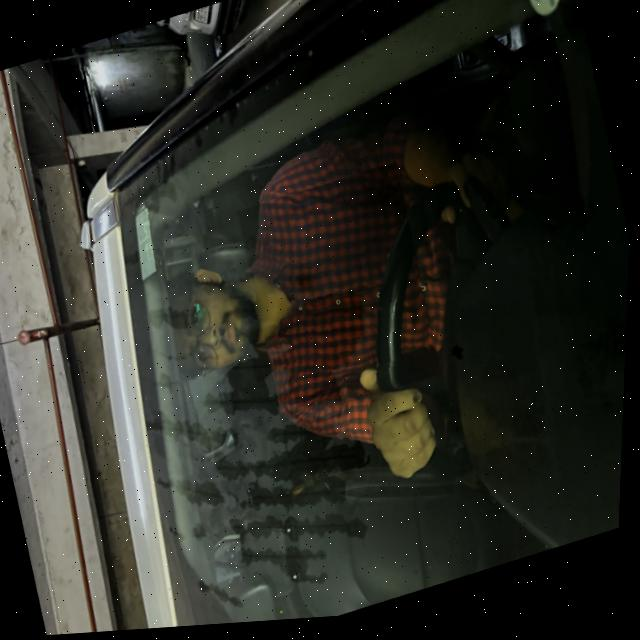no-seatbelt: (232, 163, 451, 429)
